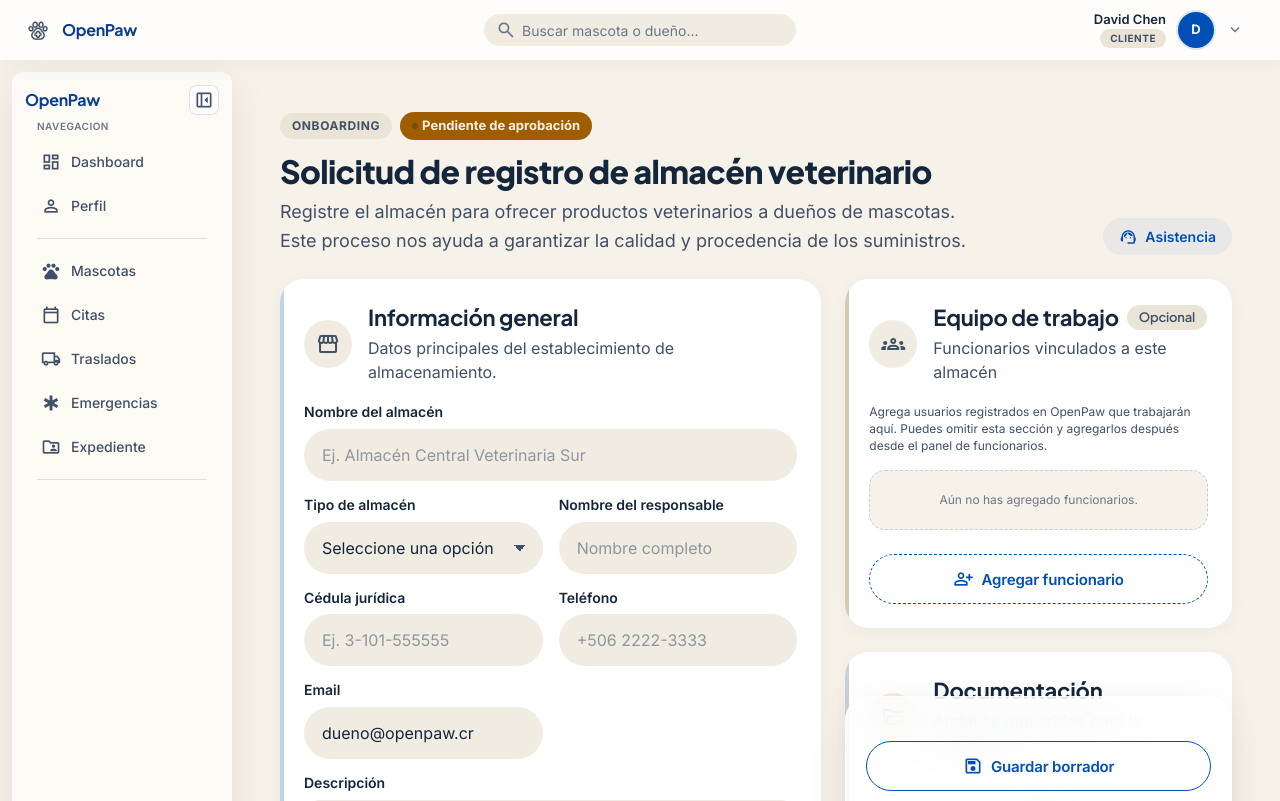
StoreRegistrationPage (T38 — página única) › botón Guardar borrador persiste _v:1 con el estado actual y muestra feedback accesible
Type "Borrador explícito S.A." into the field labelled "Nombre del almacén" at (551, 455), box [304, 429, 797, 481]
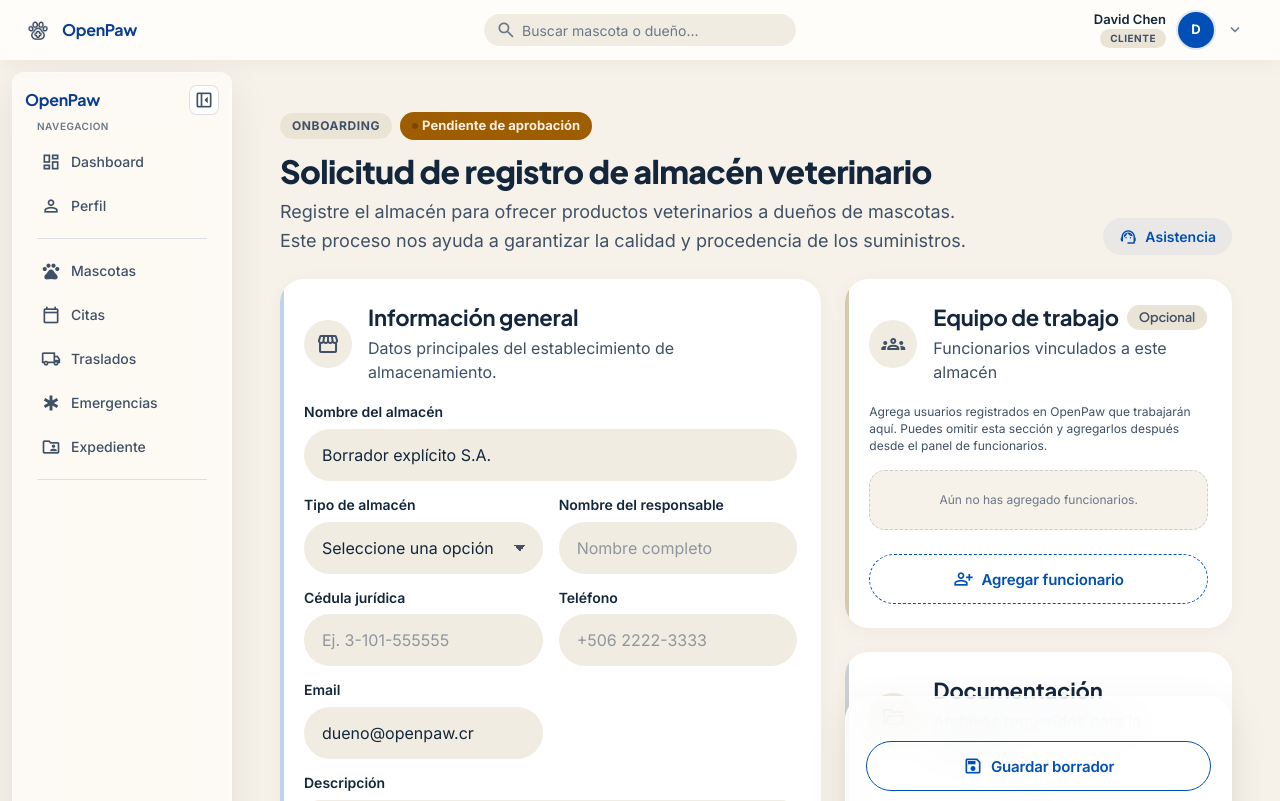
Click the button "Guardar borrador" at (1039, 766), box [866, 741, 1211, 791]
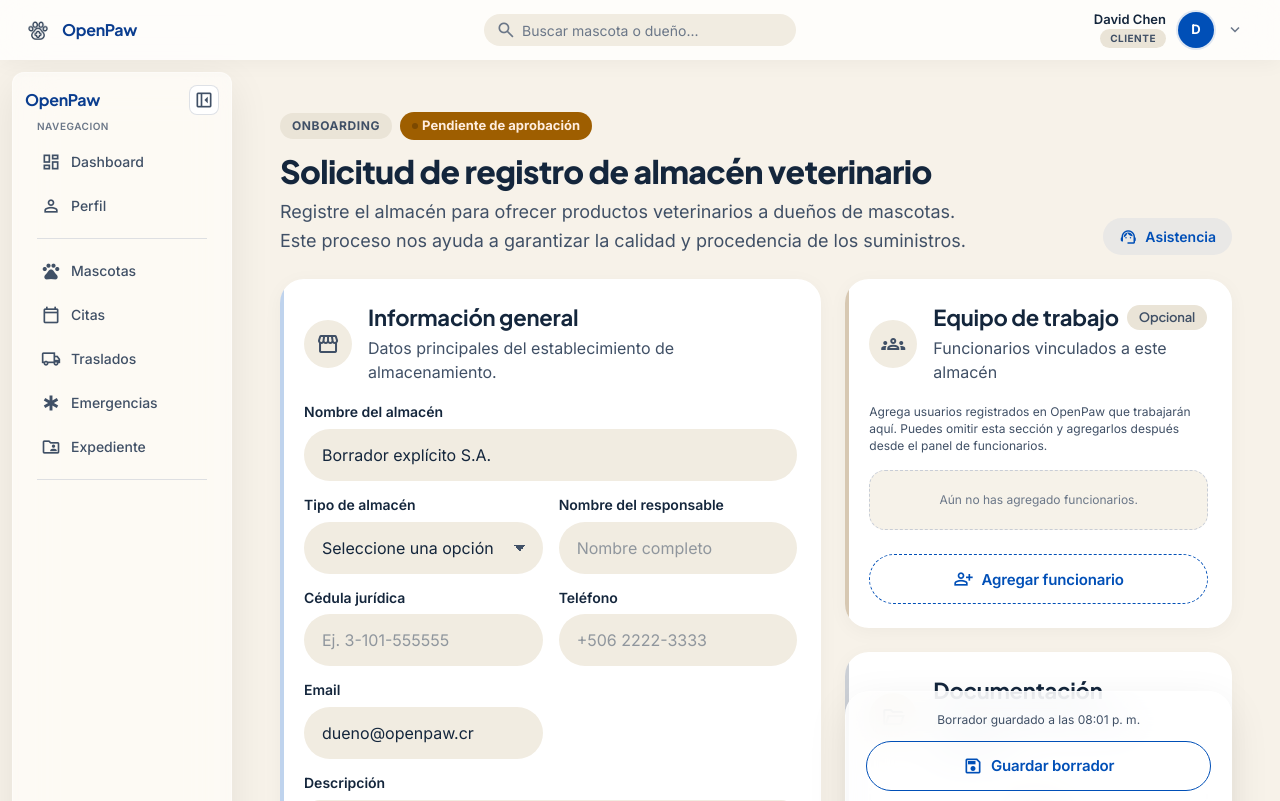
Expected: the text "Borrador guardado a las 08:01 p. m." is shown, [937, 712, 1140, 727]
